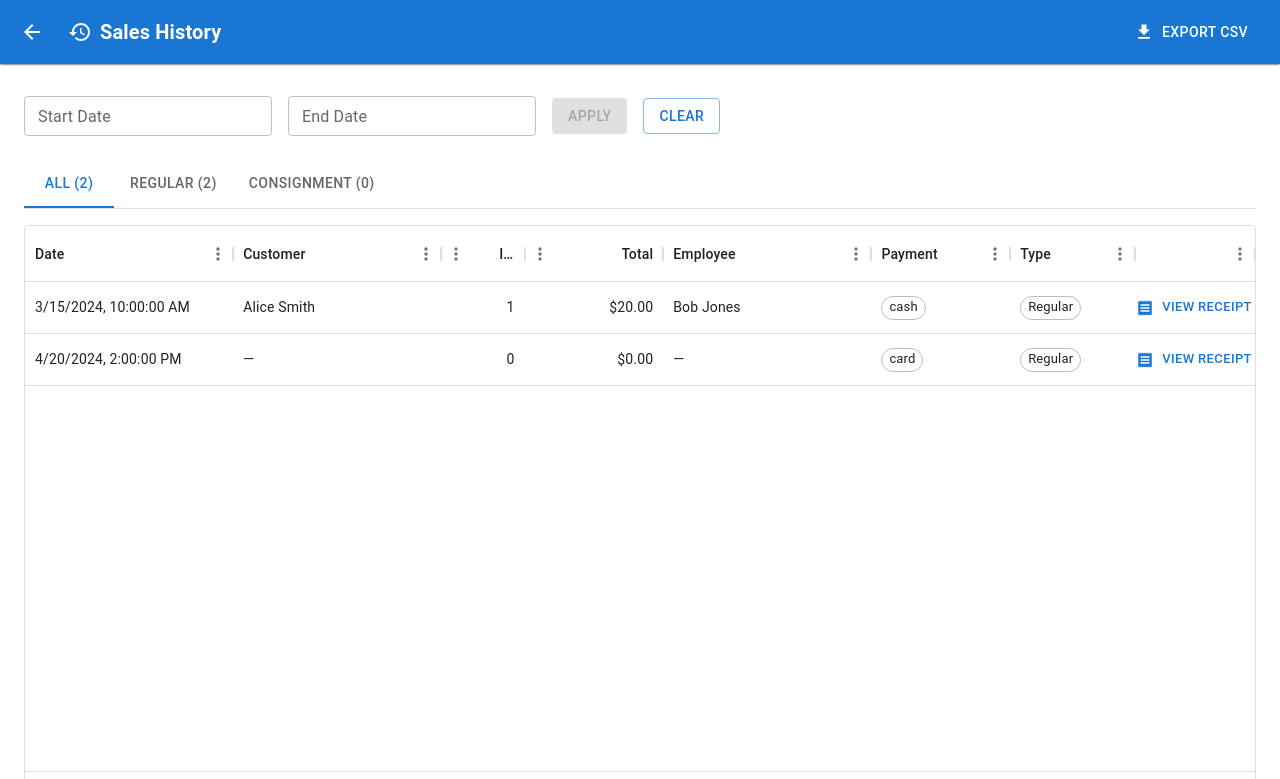
SalesHistoryPage › Receipt Dialog › opens receipt dialog when a row is clicked
Click the row that starts with "3/15/2024, 10:00:00 AM". click: (640, 308)
box: [25,282,1255,334]
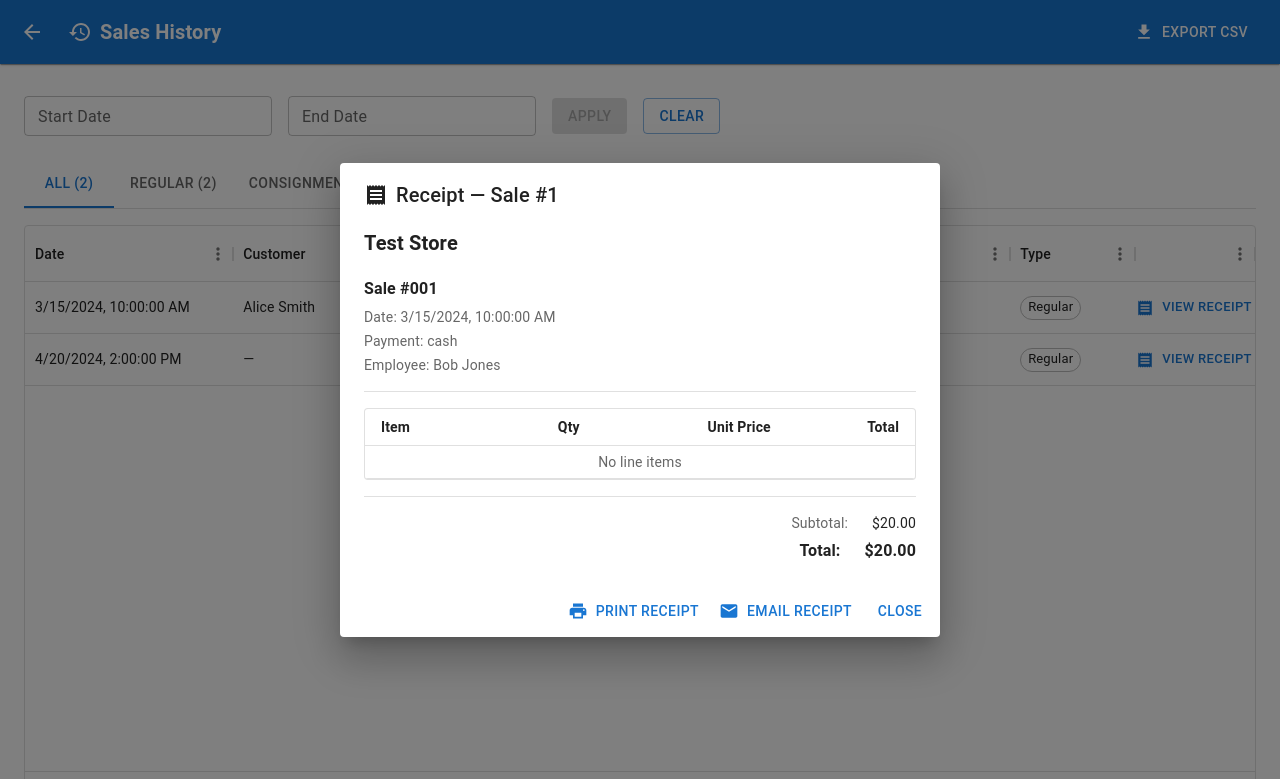
Result: the dialog is shown at [340,163,940,637]
